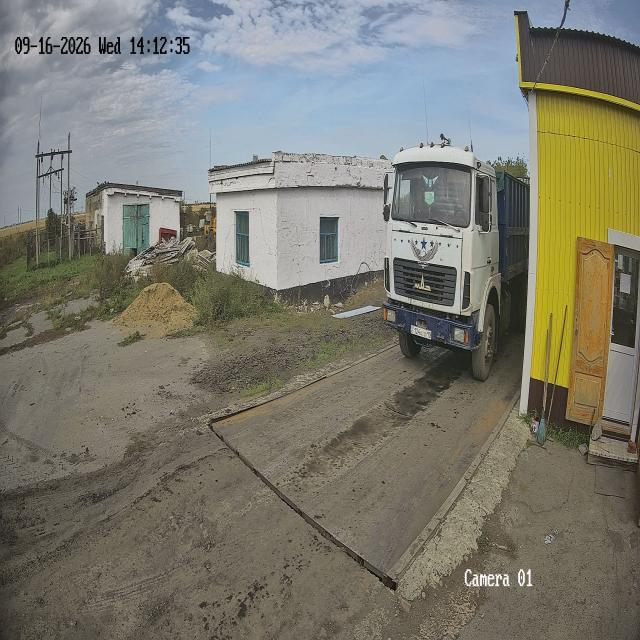license plate: (411, 325, 431, 339)
truck: (383, 135, 529, 380)
